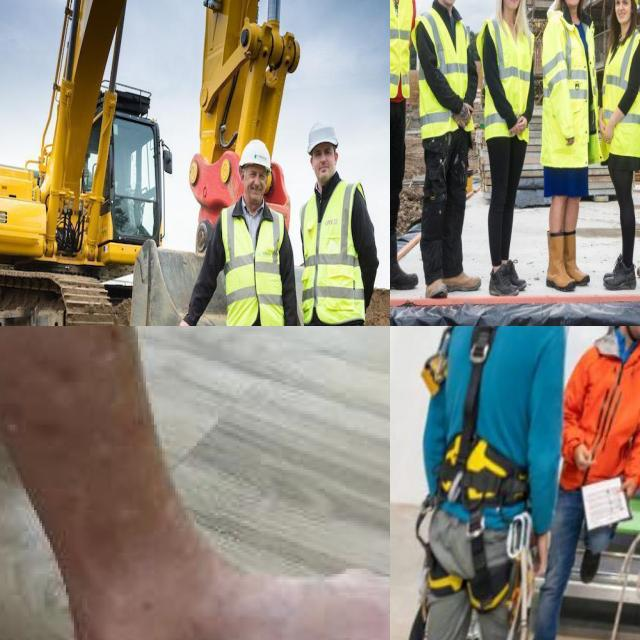Barefoots: (53, 519, 390, 640)
Harness: (426, 326, 529, 612)
No_Ear-Protection: (334, 150, 339, 167)
boots: (544, 223, 575, 293), (390, 231, 420, 295), (563, 228, 593, 288)
face_nomask: (307, 138, 337, 186), (238, 168, 266, 210), (614, 0, 633, 23), (499, 0, 522, 14), (434, 0, 459, 9), (559, 0, 587, 7)
hand_noglove: (598, 108, 620, 149), (451, 100, 476, 134), (510, 113, 529, 137), (170, 312, 199, 326)
head_helmet: (238, 139, 270, 172), (308, 121, 338, 152)
person: (179, 140, 297, 326), (414, 0, 483, 302), (289, 123, 382, 326), (540, 0, 598, 291), (480, 0, 535, 293), (601, 0, 640, 290), (390, 0, 419, 297)
shoes: (439, 259, 483, 296), (600, 256, 638, 292), (487, 262, 522, 298), (420, 270, 448, 302)
vest: (298, 180, 367, 318), (219, 202, 288, 326), (413, 1, 472, 140), (482, 21, 540, 151), (540, 12, 597, 121), (603, 25, 640, 162), (390, 0, 415, 100)
